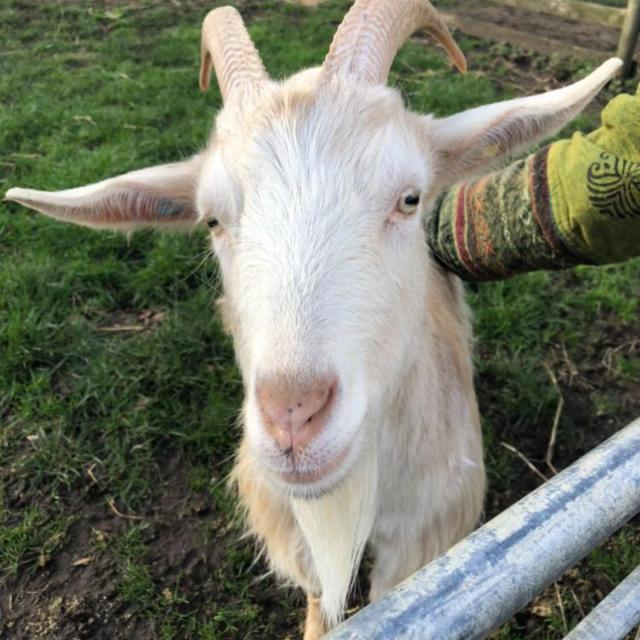goat: (3, 1, 622, 622)
